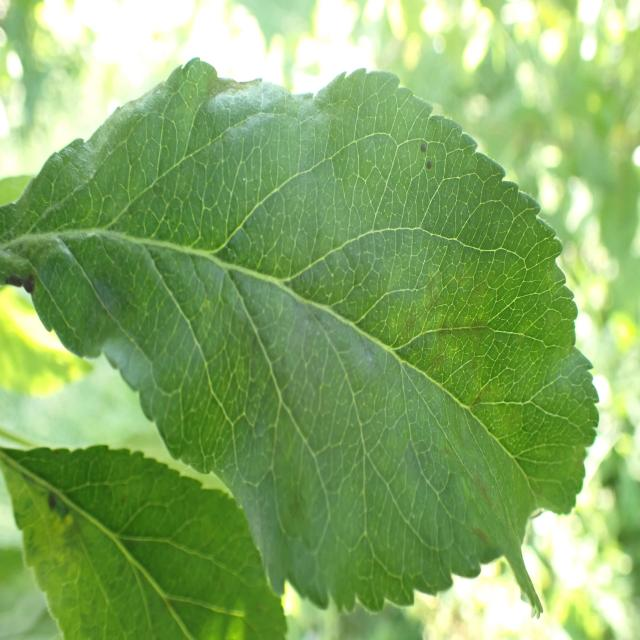scab: (61, 72, 581, 574)
